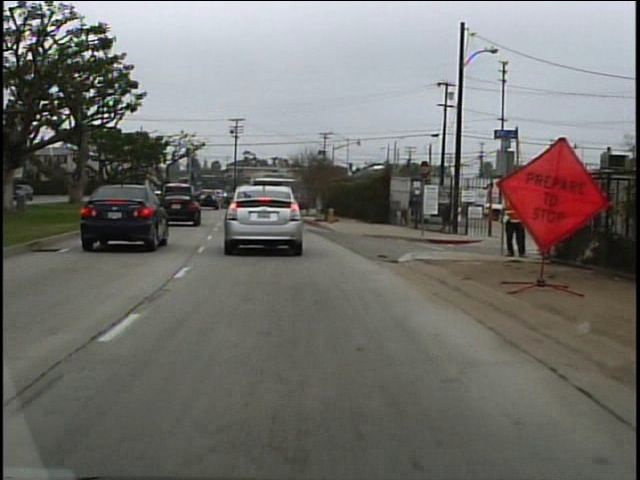person: (494, 178, 532, 261)
